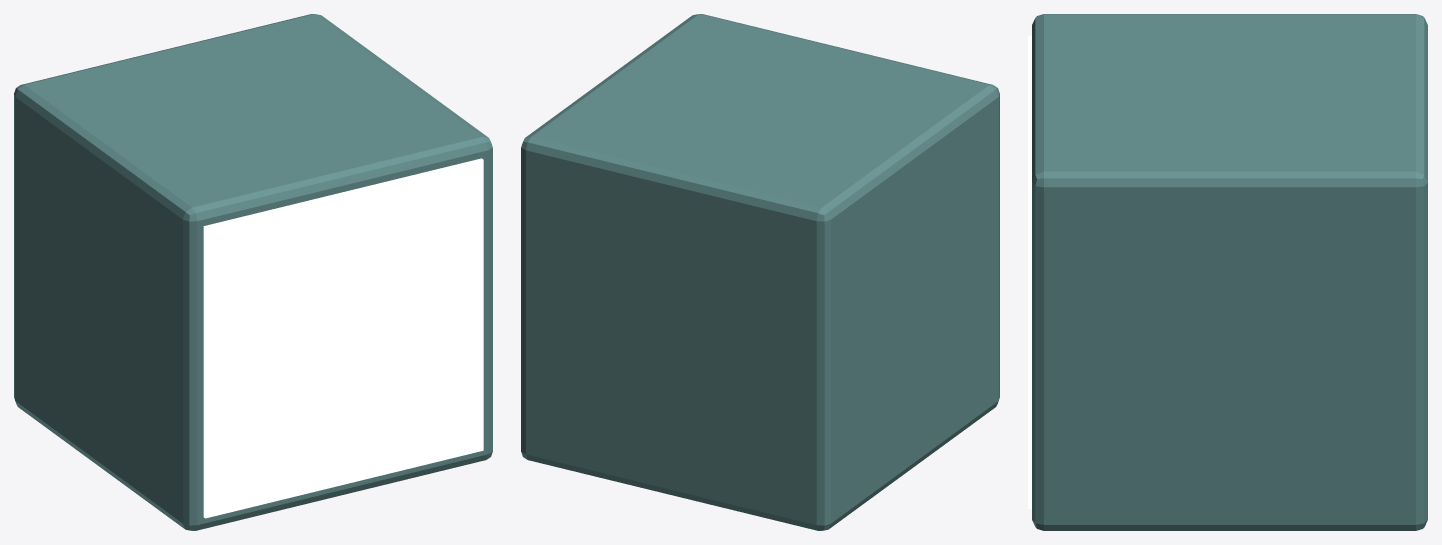
The model's file is parede.glb.
3 renders of one model, left to right at view 1: azimuth 30°, elevation 25°; view 2: azimuth 150°, elevation 25°; view 3: azimuth 270°, elevation 25°, orthographic. The views are drawn at different scales.
Visible parts, largest first — view 1: bloco, borda; view 2: bloco; view 3: bloco, borda.
Part boxes in pixels (left/top/right/bottom): bloco: left=14, top=14, right=492, bottom=530; borda: left=203, top=158, right=483, bottom=518; bloco: left=521, top=14, right=999, bottom=530; bloco: left=1032, top=14, right=1427, bottom=530; borda: left=1028, top=35, right=1031, bottom=509.
Bounding box in the file's own units: 1 × 1 × 1.01.
